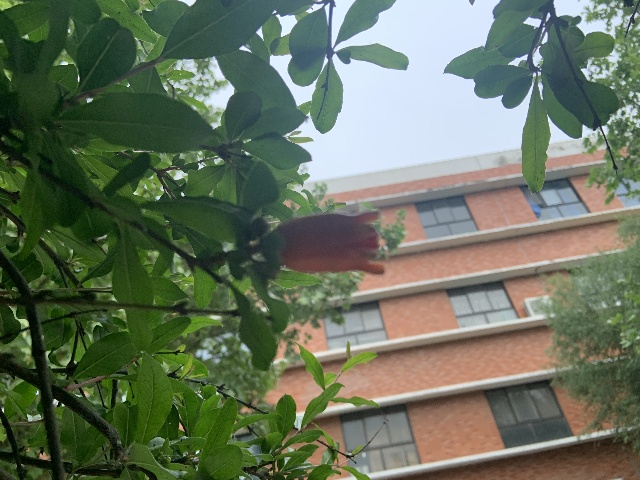flower: (275, 209, 384, 274)
